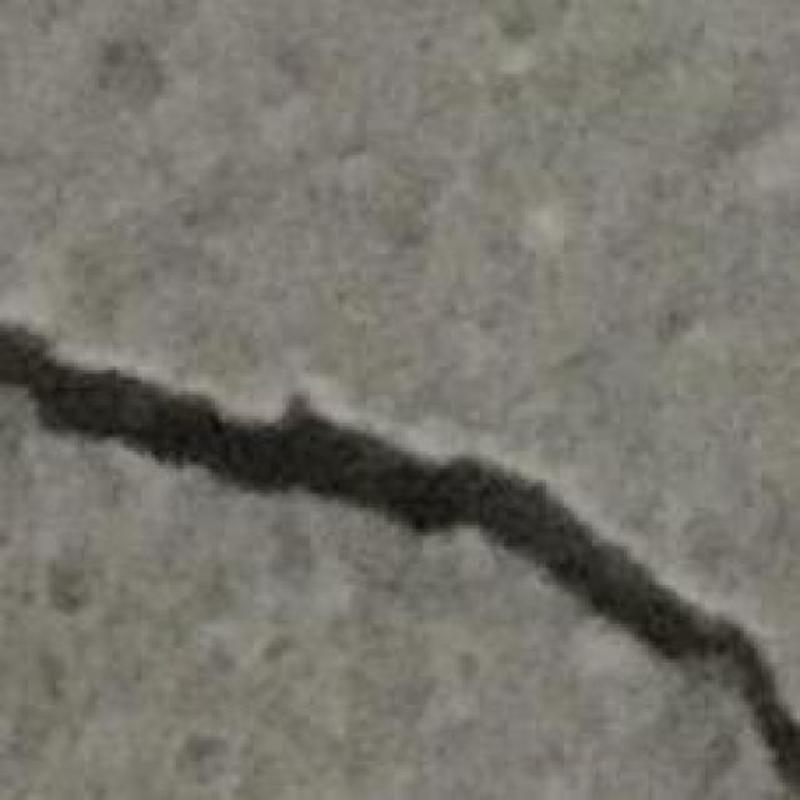pothole: (0, 324, 799, 791)
